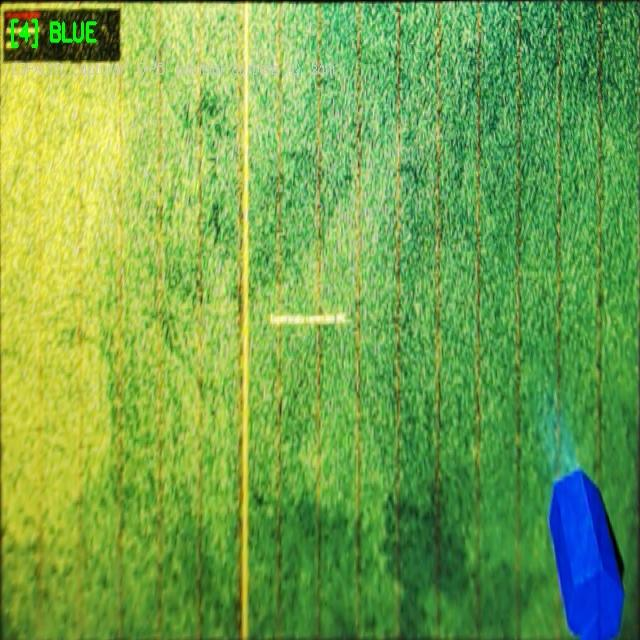blue: (549, 469, 624, 639)
